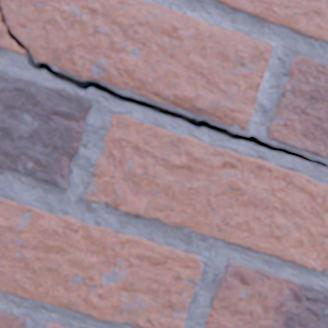brick: (87, 115, 327, 270), (0, 198, 204, 327), (0, 71, 94, 189), (206, 261, 327, 327), (268, 56, 327, 157), (215, 0, 327, 41), (0, 310, 27, 327), (47, 322, 67, 327)
broken_brick: (1, 0, 273, 129), (0, 17, 24, 55)
crack: (0, 0, 327, 169), (233, 122, 239, 125)
